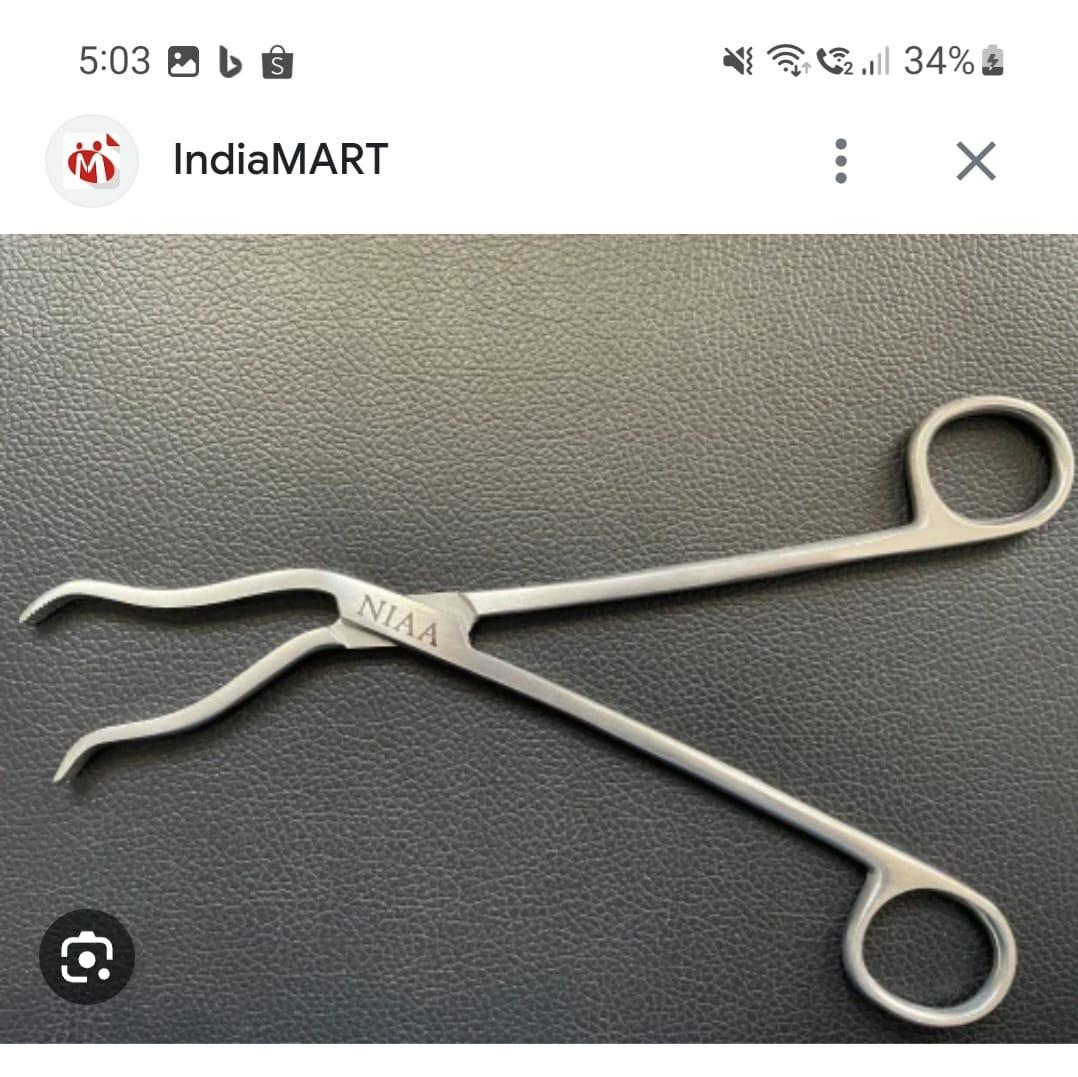Cheatle Forceps: (10, 385, 1078, 1040)
